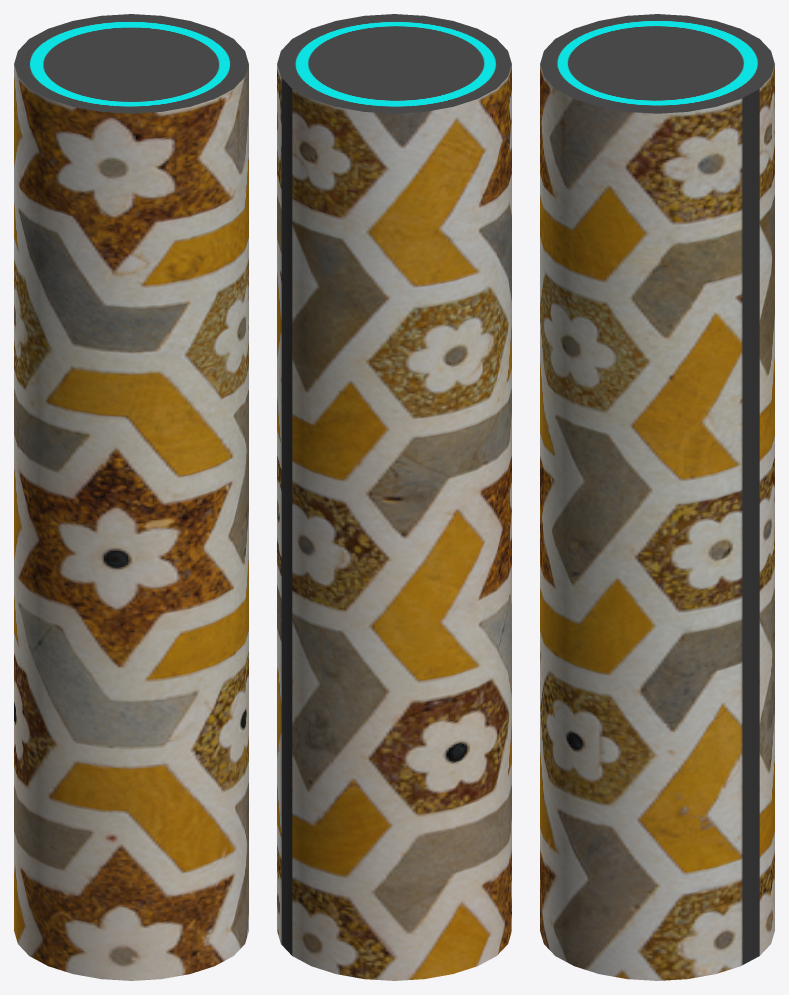
The model's file is handle_502.fbx.
3 renders of one model, left to right at view 1: azimuth 30°, elevation 25°; view 2: azimuth 150°, elevation 25°; view 3: azimuth 270°, elevation 25°, orthographic.
Visible parts, largest first — view 1: handle_502; view 2: handle_502; view 3: handle_502.
Boxes of the visible parts, x1=… form: handle_502: x1=14, y1=14, x2=248, y2=980; handle_502: x1=277, y1=14, x2=511, y2=980; handle_502: x1=540, y1=14, x2=774, y2=980.
Size of the model in its own units: 1.69 by 6.84 by 1.68.
